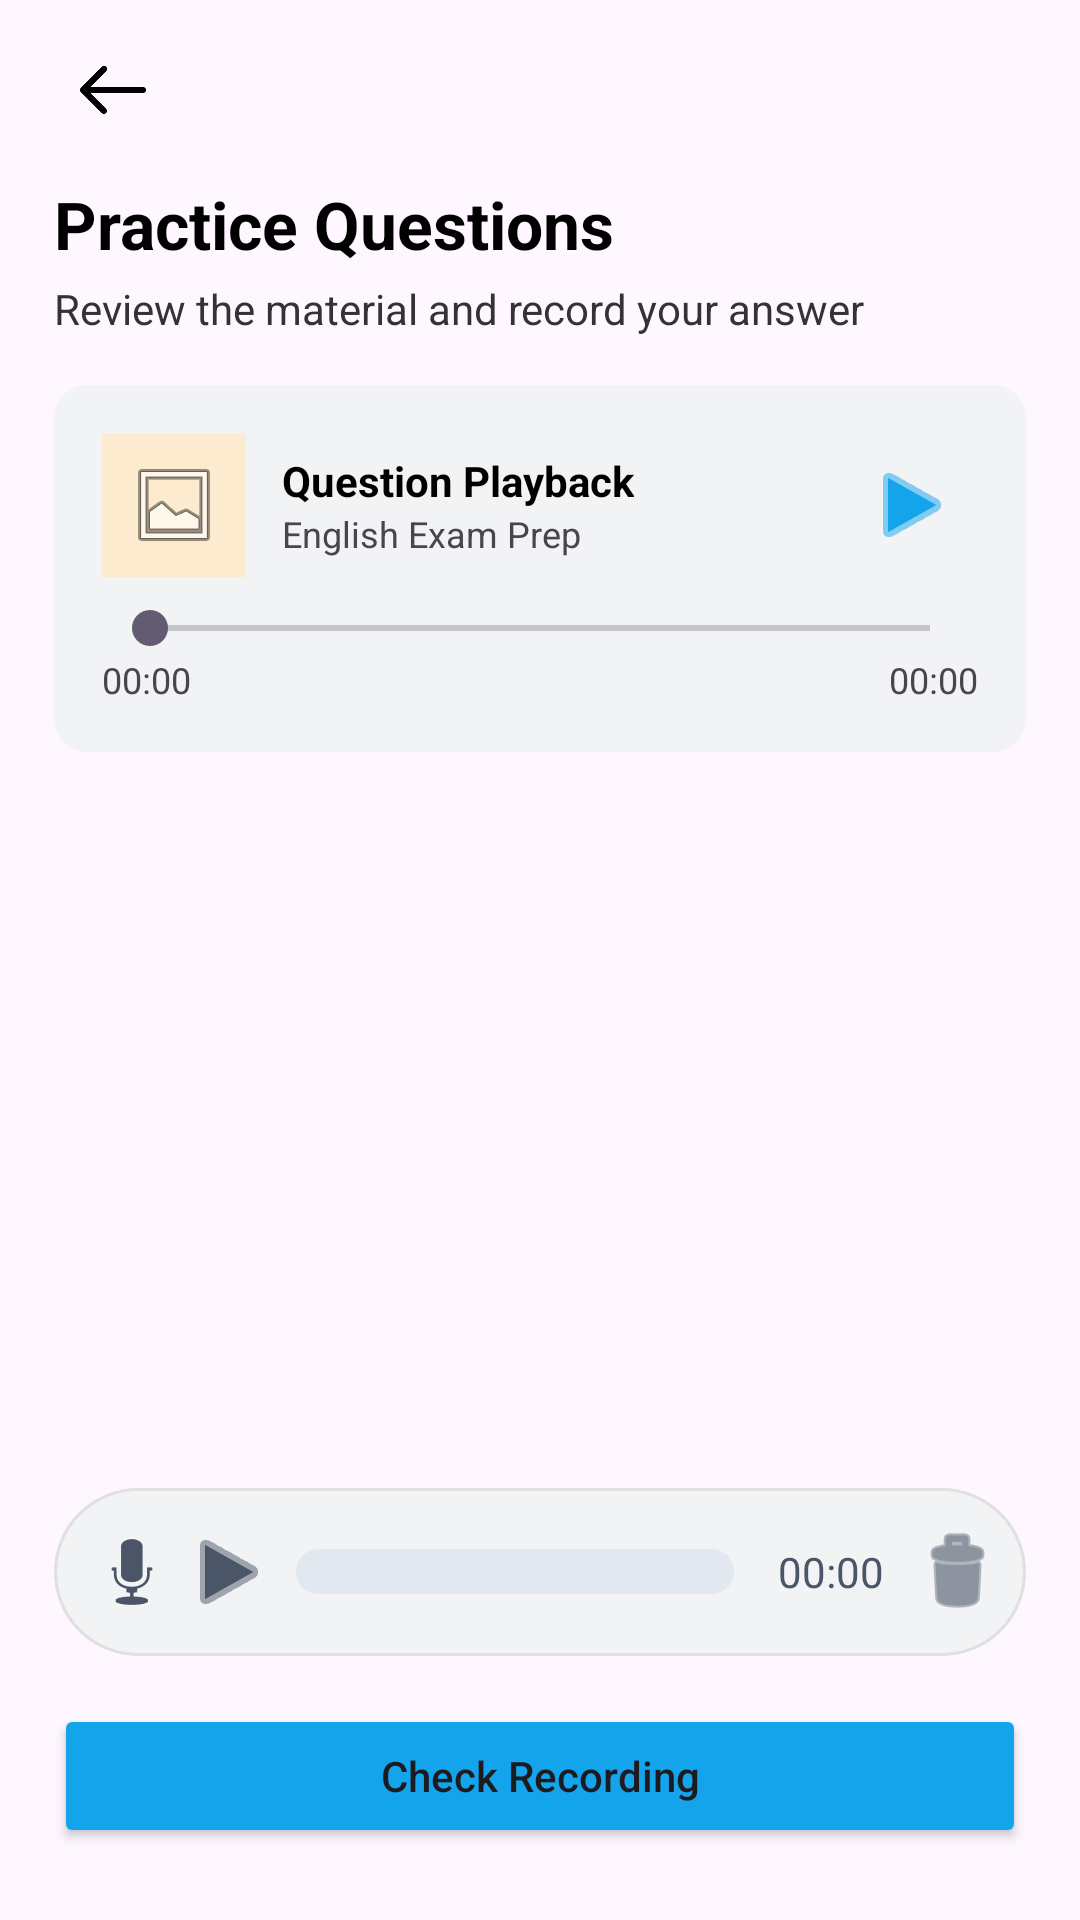

Screen size 1080px x 1920px. Icon name, then its center in pixels as point (x, y):
arrow back: point (113, 90)
delete: point (957, 1570)
gallery: point (174, 505)
play: point (912, 505), point (229, 1572)
speak now: point (132, 1572)
